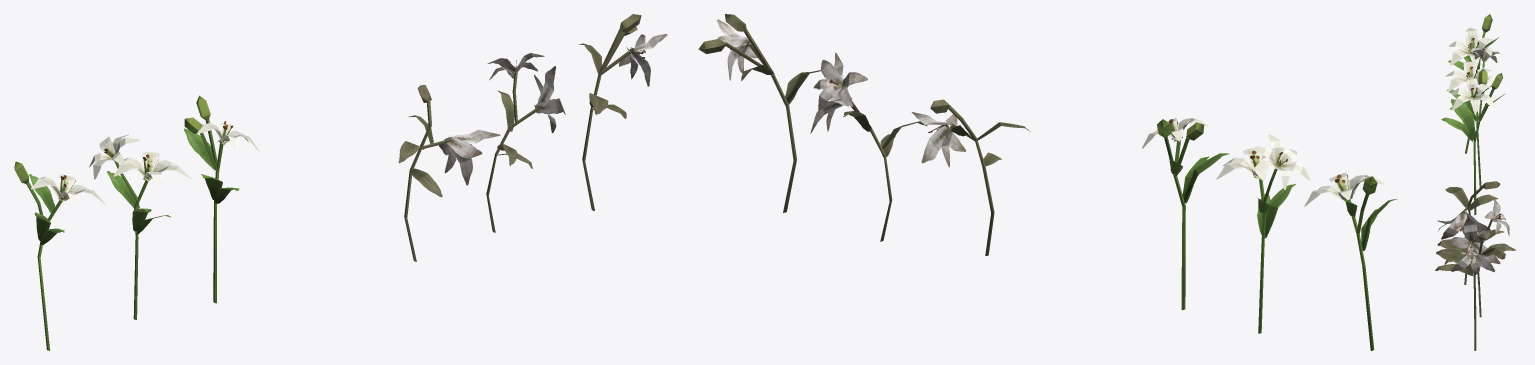
The model's file is White.Lillies.fbx.
3 views of the same model, side by side, from view 1: azimuth 30°, elevation 25°; view 2: azimuth 150°, elevation 25°; view 3: azimuth 270°, elevation 25° (orthographic). The views are drawn at different scales.
Parts seen in each view (by area): view 1: White.Lilly_1, White.Lilly.Dried_3, White.Lilly_2, White.Lilly.Dried_2, White.Lilly.Dried_1, White.Lilly_3; view 2: White.Lilly_1, White.Lilly.Dried_2, White.Lilly.Dried_1, White.Lilly.Dried_3, White.Lilly_2, White.Lilly_3; view 3: White.Lilly_2, White.Lilly.Dried_2, White.Lilly.Dried_1, White.Lilly.Dried_3, White.Lilly_1, White.Lilly_3.
Boxes of the visible parts, x1=… form: White.Lilly_1: x1=89, y1=134, x2=192, y2=319; White.Lilly.Dried_3: x1=398, y1=85, x2=500, y2=261; White.Lilly_2: x1=184, y1=95, x2=259, y2=303; White.Lilly.Dried_2: x1=578, y1=14, x2=667, y2=210; White.Lilly.Dried_1: x1=486, y1=53, x2=565, y2=232; White.Lilly_3: x1=14, y1=161, x2=105, y2=350; White.Lilly_1: x1=1216, y1=134, x2=1309, y2=333; White.Lilly.Dried_2: x1=698, y1=14, x2=820, y2=212; White.Lilly.Dried_1: x1=810, y1=52, x2=927, y2=241; White.Lilly.Dried_3: x1=911, y1=99, x2=1030, y2=255; White.Lilly_2: x1=1142, y1=118, x2=1229, y2=309; White.Lilly_3: x1=1304, y1=172, x2=1397, y2=350; White.Lilly_2: x1=1441, y1=68, x2=1505, y2=215; White.Lilly.Dried_2: x1=1435, y1=233, x2=1516, y2=350; White.Lilly.Dried_1: x1=1437, y1=200, x2=1509, y2=317; White.Lilly.Dried_3: x1=1437, y1=181, x2=1500, y2=284; White.Lilly_1: x1=1445, y1=48, x2=1501, y2=187; White.Lilly_3: x1=1448, y1=14, x2=1500, y2=153.
Size of the model in its own units: 108 by 31.33 by 17.79.
